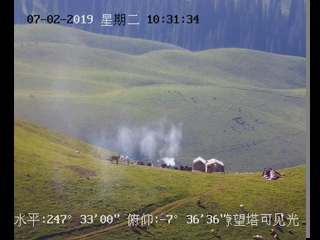smoke: (108, 120, 186, 167)
